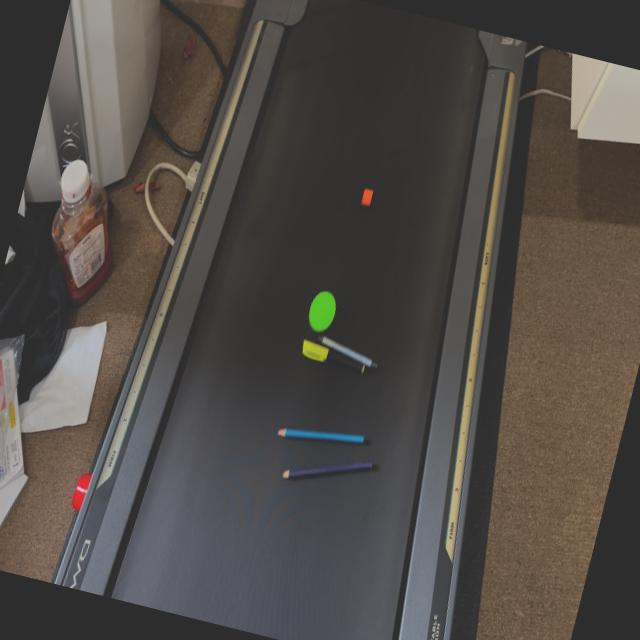Trash: (251, 405, 395, 515), (284, 276, 398, 396), (348, 176, 386, 224)
